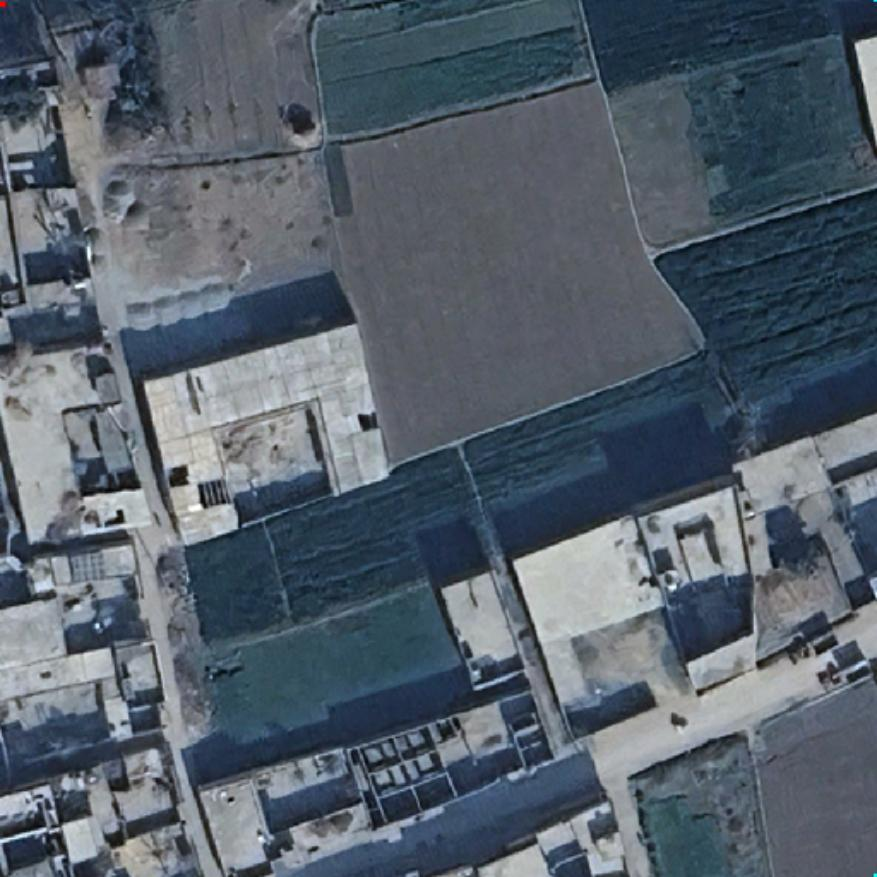Solarpanel: (66, 548, 108, 586)
